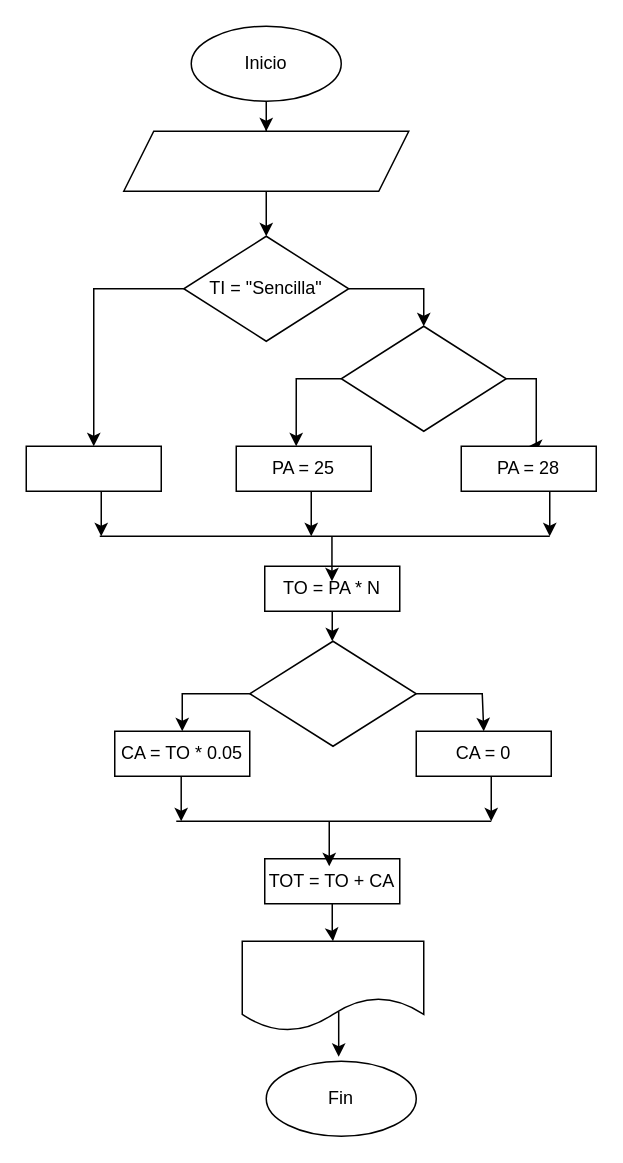
Some shapes in this 623 by 1163 pixel diagram are drawn without their labels. Each missing label, with the box of its shape:
N, TI, TP: (122, 130, 409, 191)
PA = 20: (25, 445, 161, 491)
PA, TO, CA, TOT: (241, 940, 424, 1031)
TI = "Doble": (340, 325, 506, 431)
TP = "TAR": (248, 640, 416, 746)
